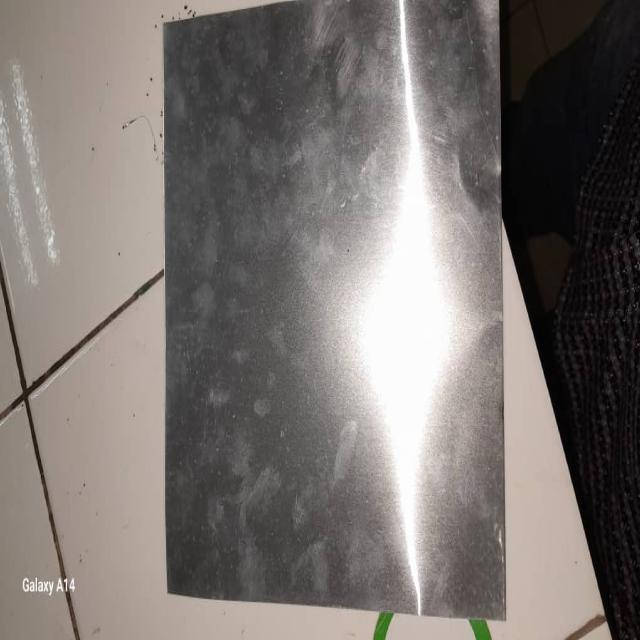TLC Plate: (158, 8, 508, 593)
